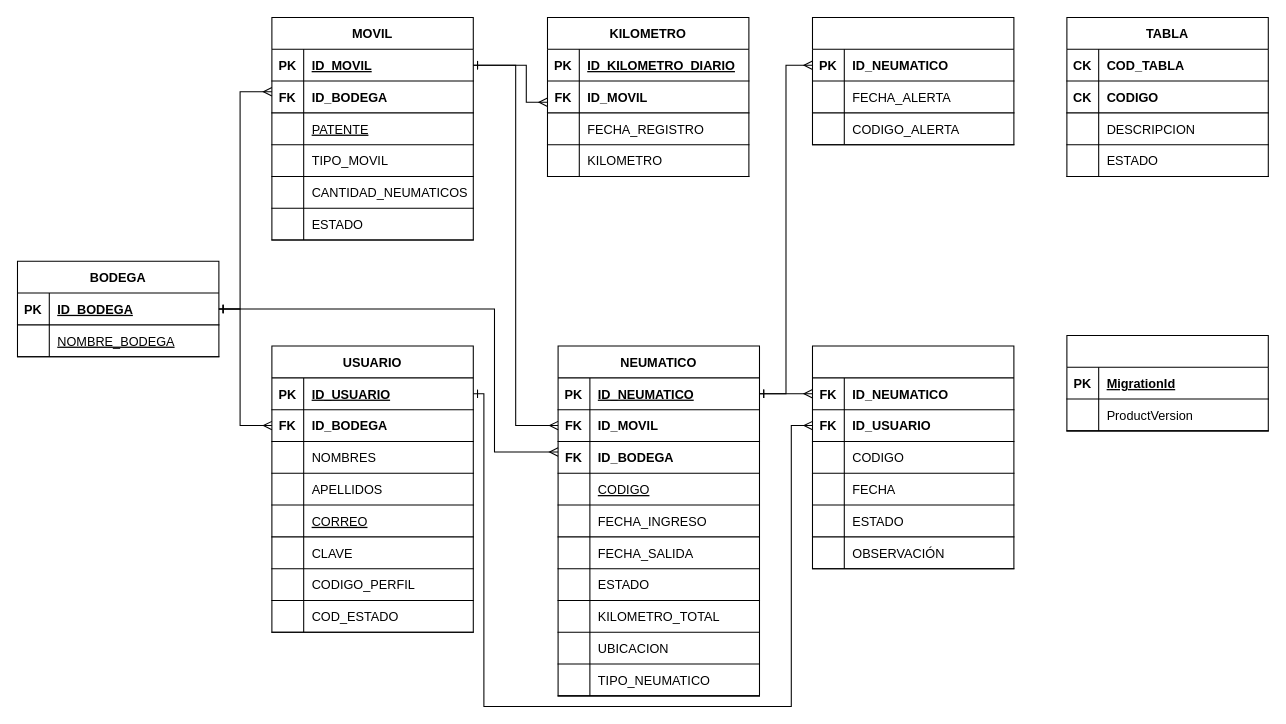
Some shapes in this 1286 by 724 pixel diagram are drawn without their labels. Each missing label, with the box of its shape:
ALERTAS: (811, 16, 1014, 145)
BITACORA_NEUMATICO: (811, 345, 1014, 569)
EFMigrationsHistory: (1066, 334, 1268, 431)
